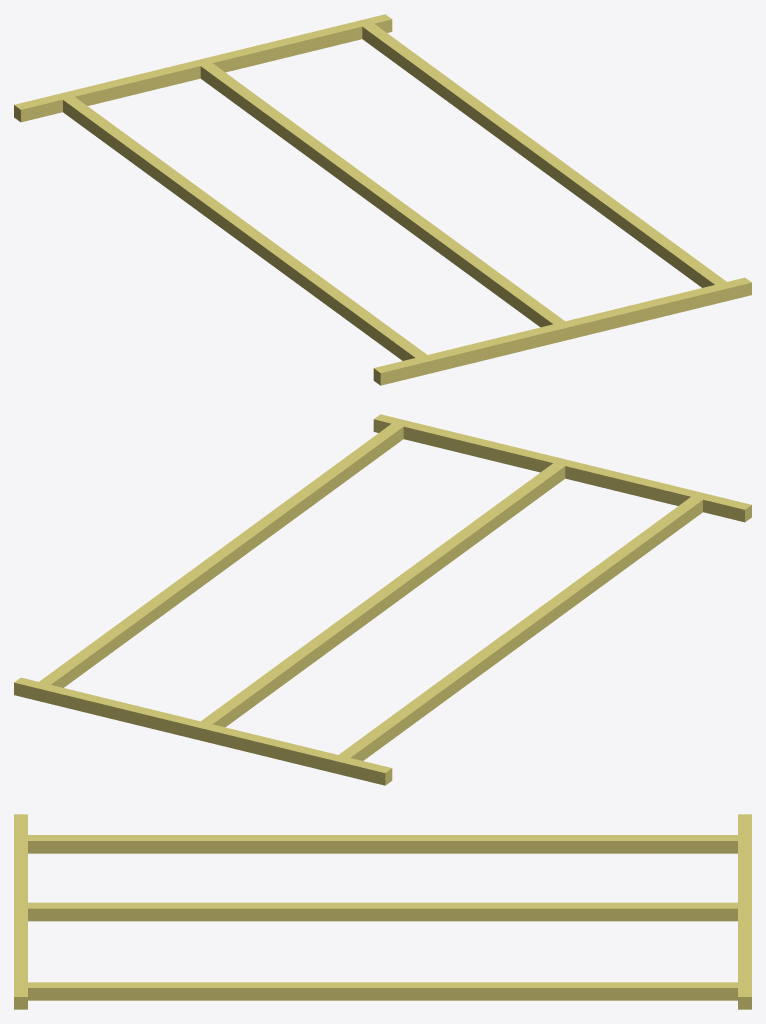
Rendered from SM_Arena_Main_Stage_Truss.fbx.
The picture shows the model from 3 angles, top to bottom: view 1: azimuth 30°, elevation 25°; view 2: azimuth 150°, elevation 25°; view 3: azimuth 270°, elevation 25°; orthographic projection.
Parts seen in each view (by area): view 1: SM_Arena_Main_Stage_Truss; view 2: SM_Arena_Main_Stage_Truss; view 3: SM_Arena_Main_Stage_Truss.
Boxes of the visible parts, left/top/right/bottom form: SM_Arena_Main_Stage_Truss: left=14, top=14, right=751, bottom=385; SM_Arena_Main_Stage_Truss: left=14, top=414, right=751, bottom=785; SM_Arena_Main_Stage_Truss: left=14, top=814, right=751, bottom=1009.
Bounding box in the file's own units: 1550 × 50 × 2650.
